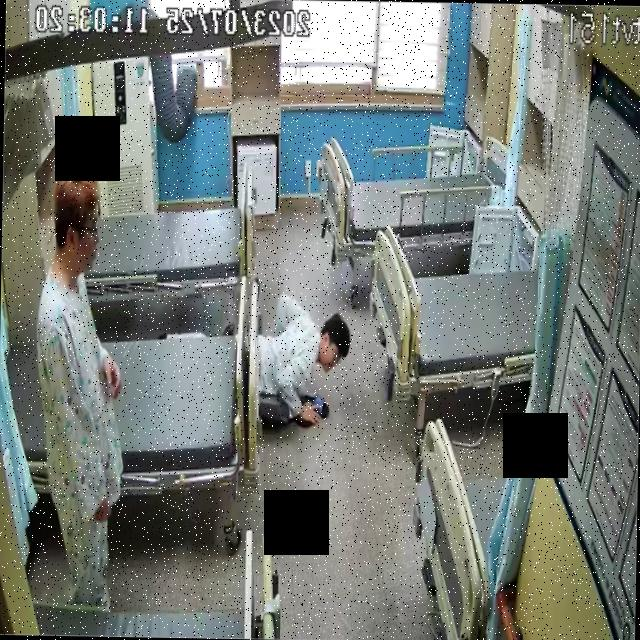bed: (8, 270, 264, 498), (67, 149, 255, 309), (368, 228, 535, 397), (320, 142, 490, 260)
fall: (242, 294, 353, 426)
patient: (34, 168, 126, 604), (238, 293, 354, 428)
